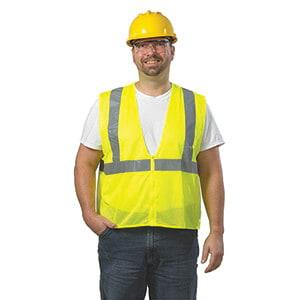helmet: (126, 10, 181, 50)
